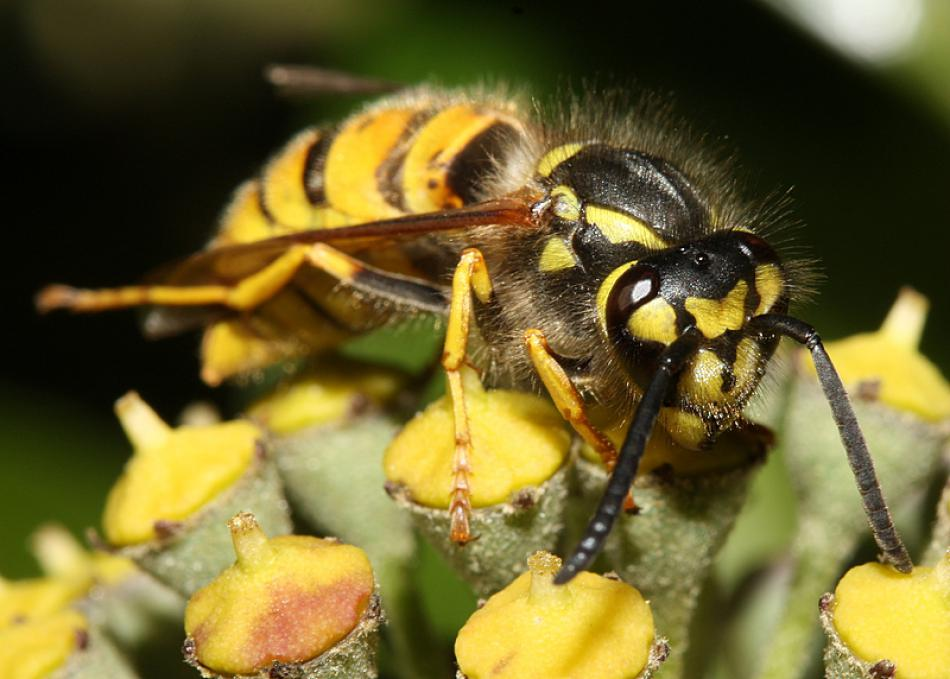chax: (19, 39, 906, 609)
